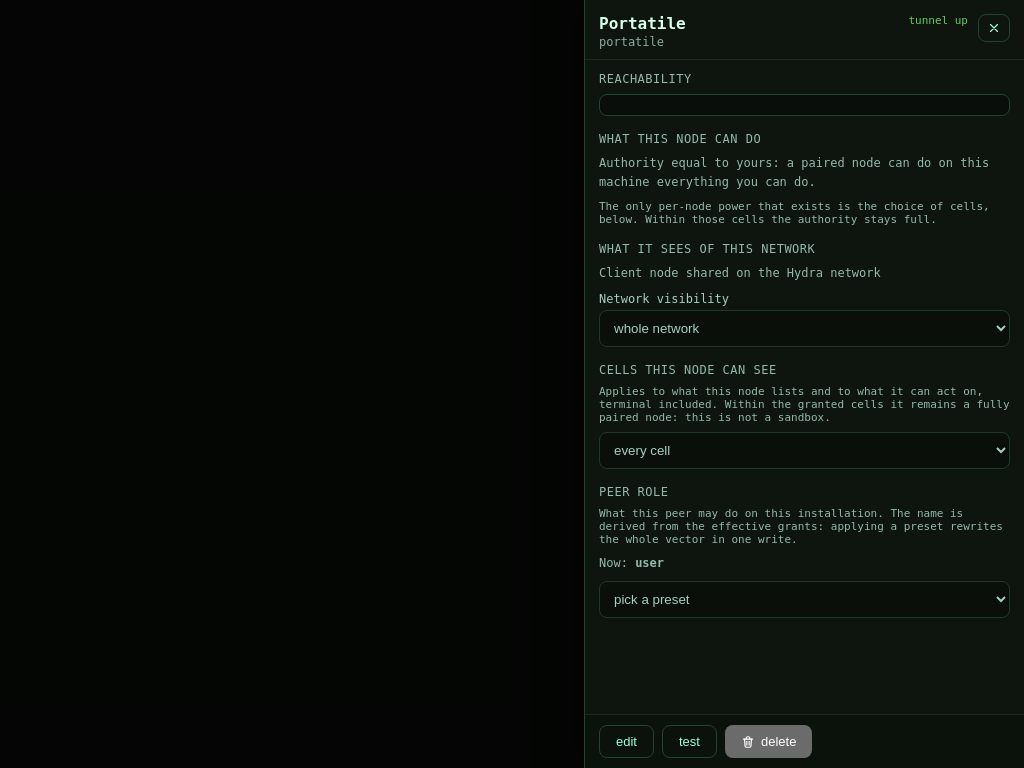
Test case: peer access role › la matrice compare PRIMA della conferma e nessuna scrittura parte da sola
Select "nexushost" in the dropdown named "Preset to apply" at (804, 599), box x1=599 y1=581 x2=1010 y2=618
(page scrolled)
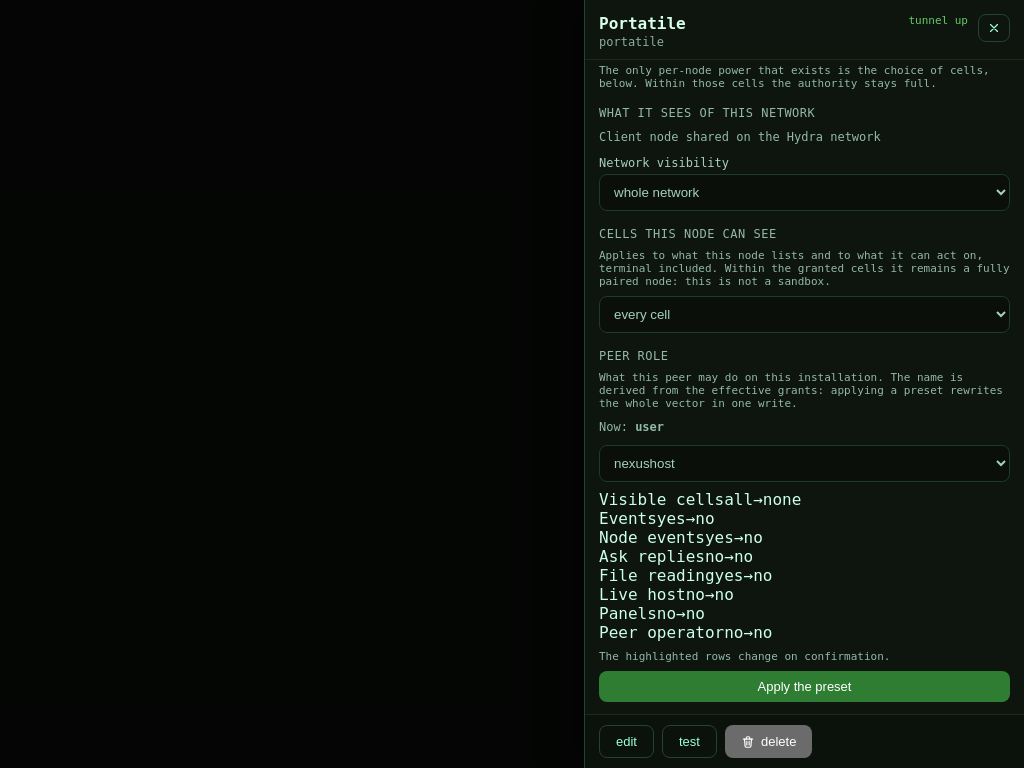
Expected: the number of rows with class "nc-access-row" is 8
Expected: the table named "What would change" is shown, x1=599 y1=490 x2=801 y2=642
